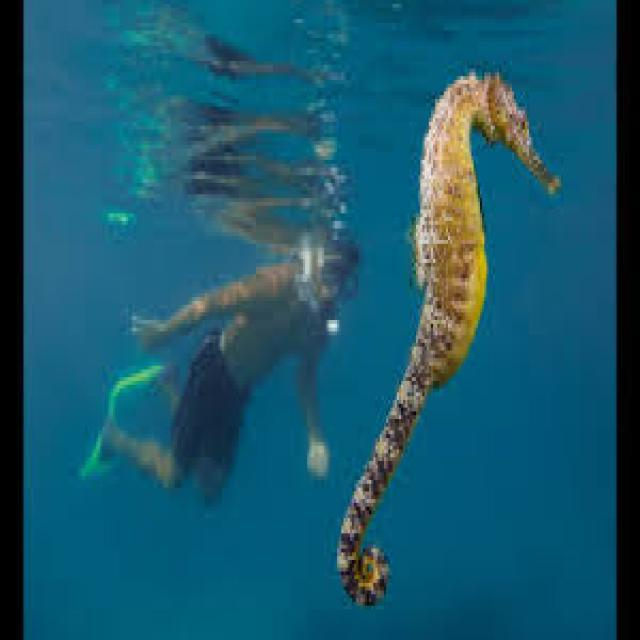SeaHorse: (337, 72, 563, 610)
